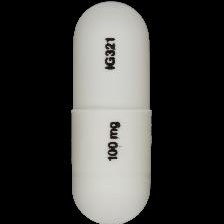68788-9026: (0, 0, 224, 224)
